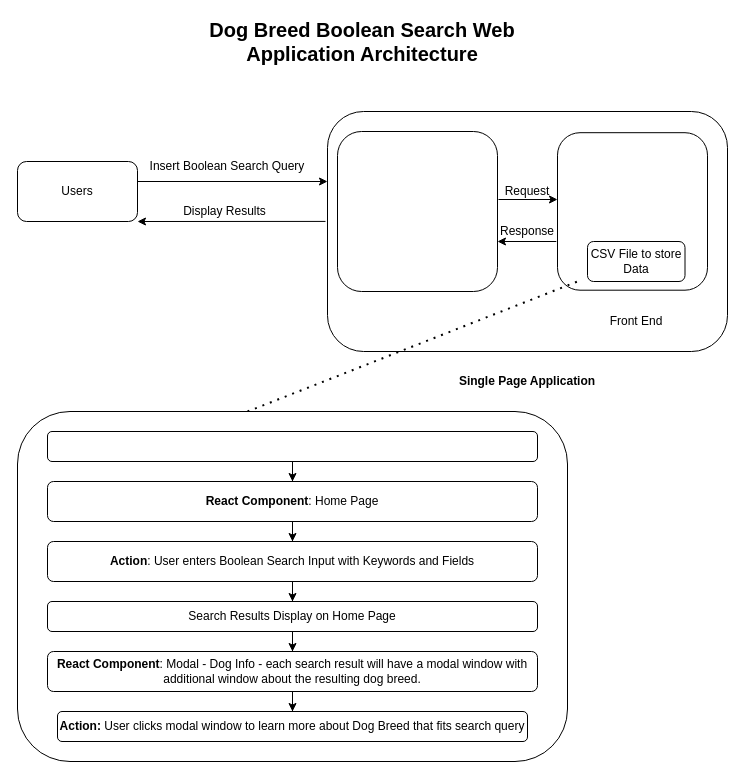
The diagram is 745 pixels wide and 779 high, and some of its shapes have lost their labels. Here are the shapes that lost their labels. From the top down, the box of each, then its label:
(336, 130, 498, 292): Web Browser (User interacts with) HTML, CSS, Javascript
(556, 132, 708, 290): React JS App
(46, 430, 538, 462): Account/User Login
